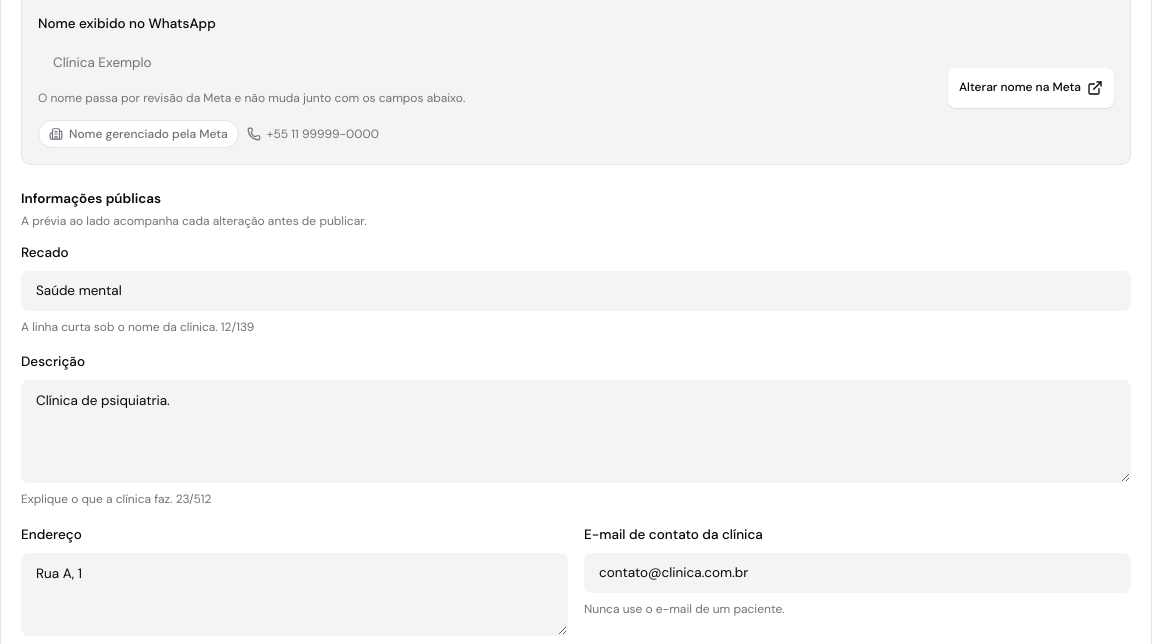
it: leitura bem-sucedida › mantém uma prévia ao vivo, identificada como aproximada
This screenshot has width=1152, height=644.
(page scrolled)
Replace the text in the field labelled "Recado" with "Novo recado em tempo real" at coordinates (576, 291), box [21,271,1131,311]
(page scrolled)
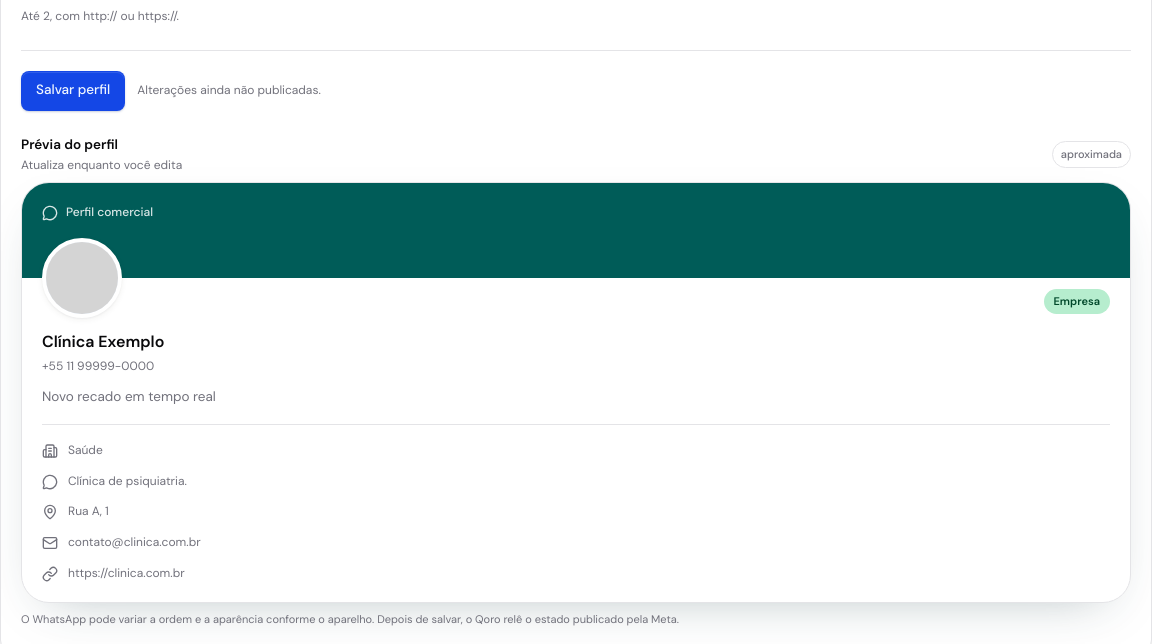
Result: the element that starts with "Perfil comercial" shows "Novo recado em tempo real" at [42,388,216,405]
